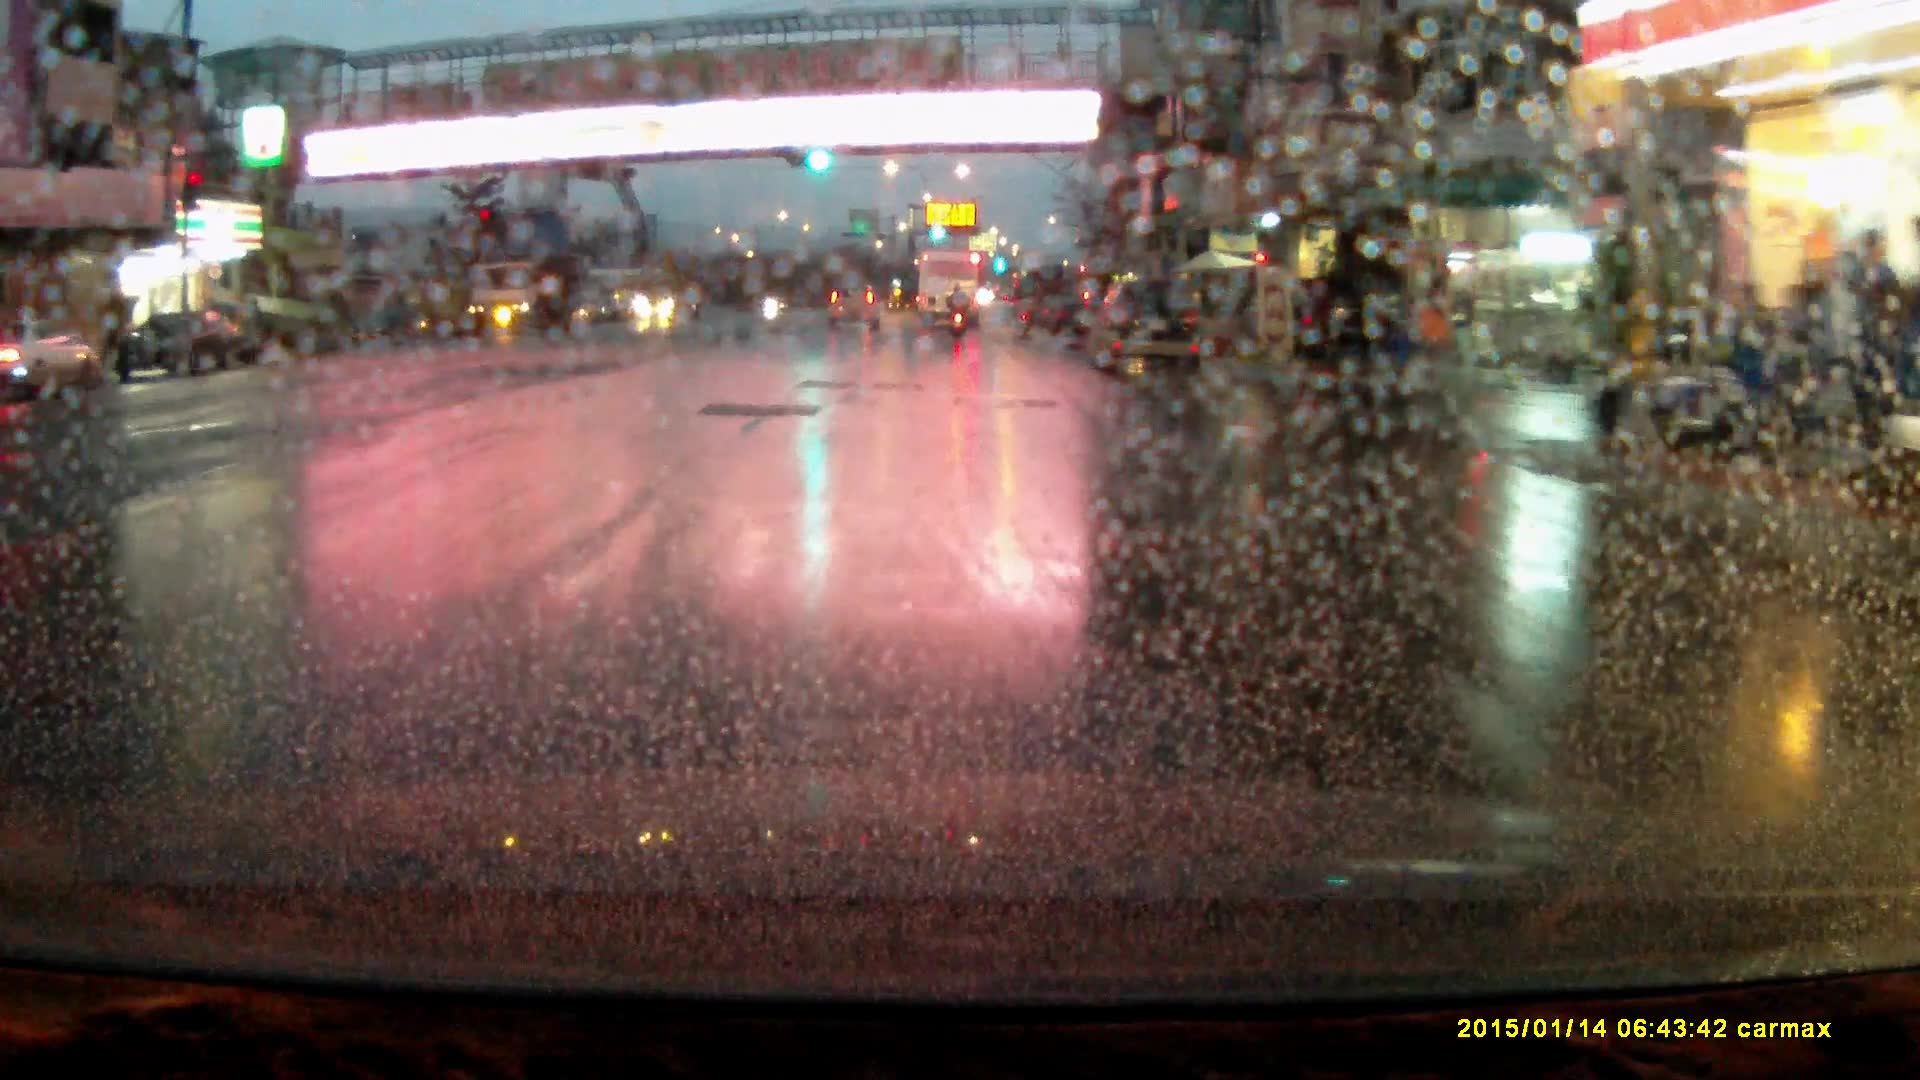pedestrian: (1404, 279, 1458, 398)
rider: (947, 282, 970, 340)
vehicle: (1086, 282, 1202, 385), (104, 316, 247, 389), (461, 263, 575, 341), (1, 325, 114, 403), (1298, 283, 1399, 366), (919, 255, 981, 334), (635, 278, 702, 328), (828, 289, 883, 337)
